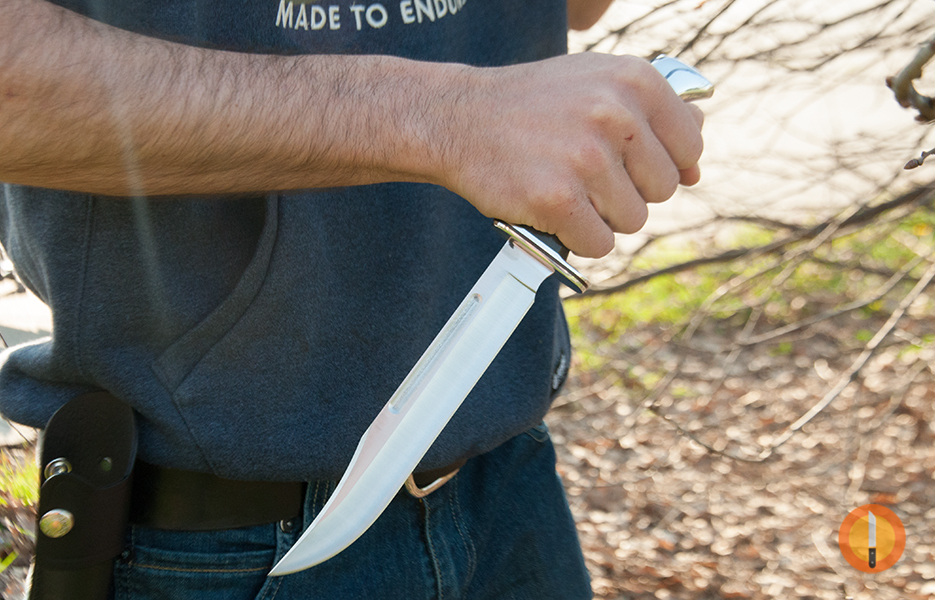knife: (256, 106, 713, 584)
